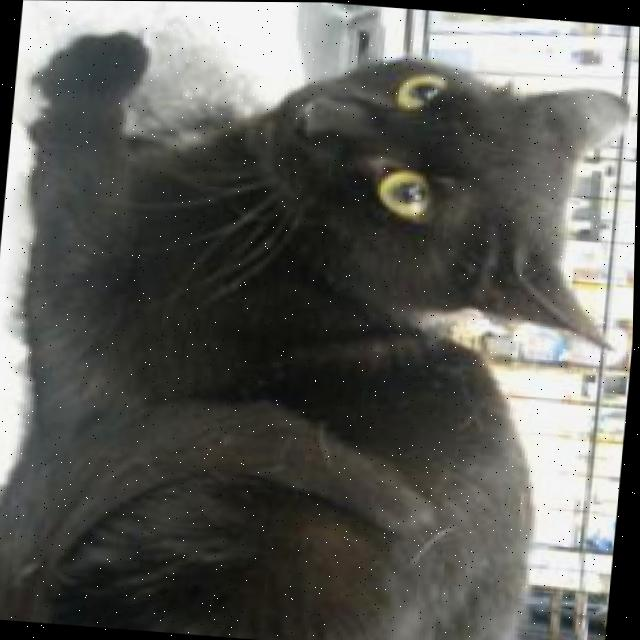Bombay: (0, 16, 640, 640)
